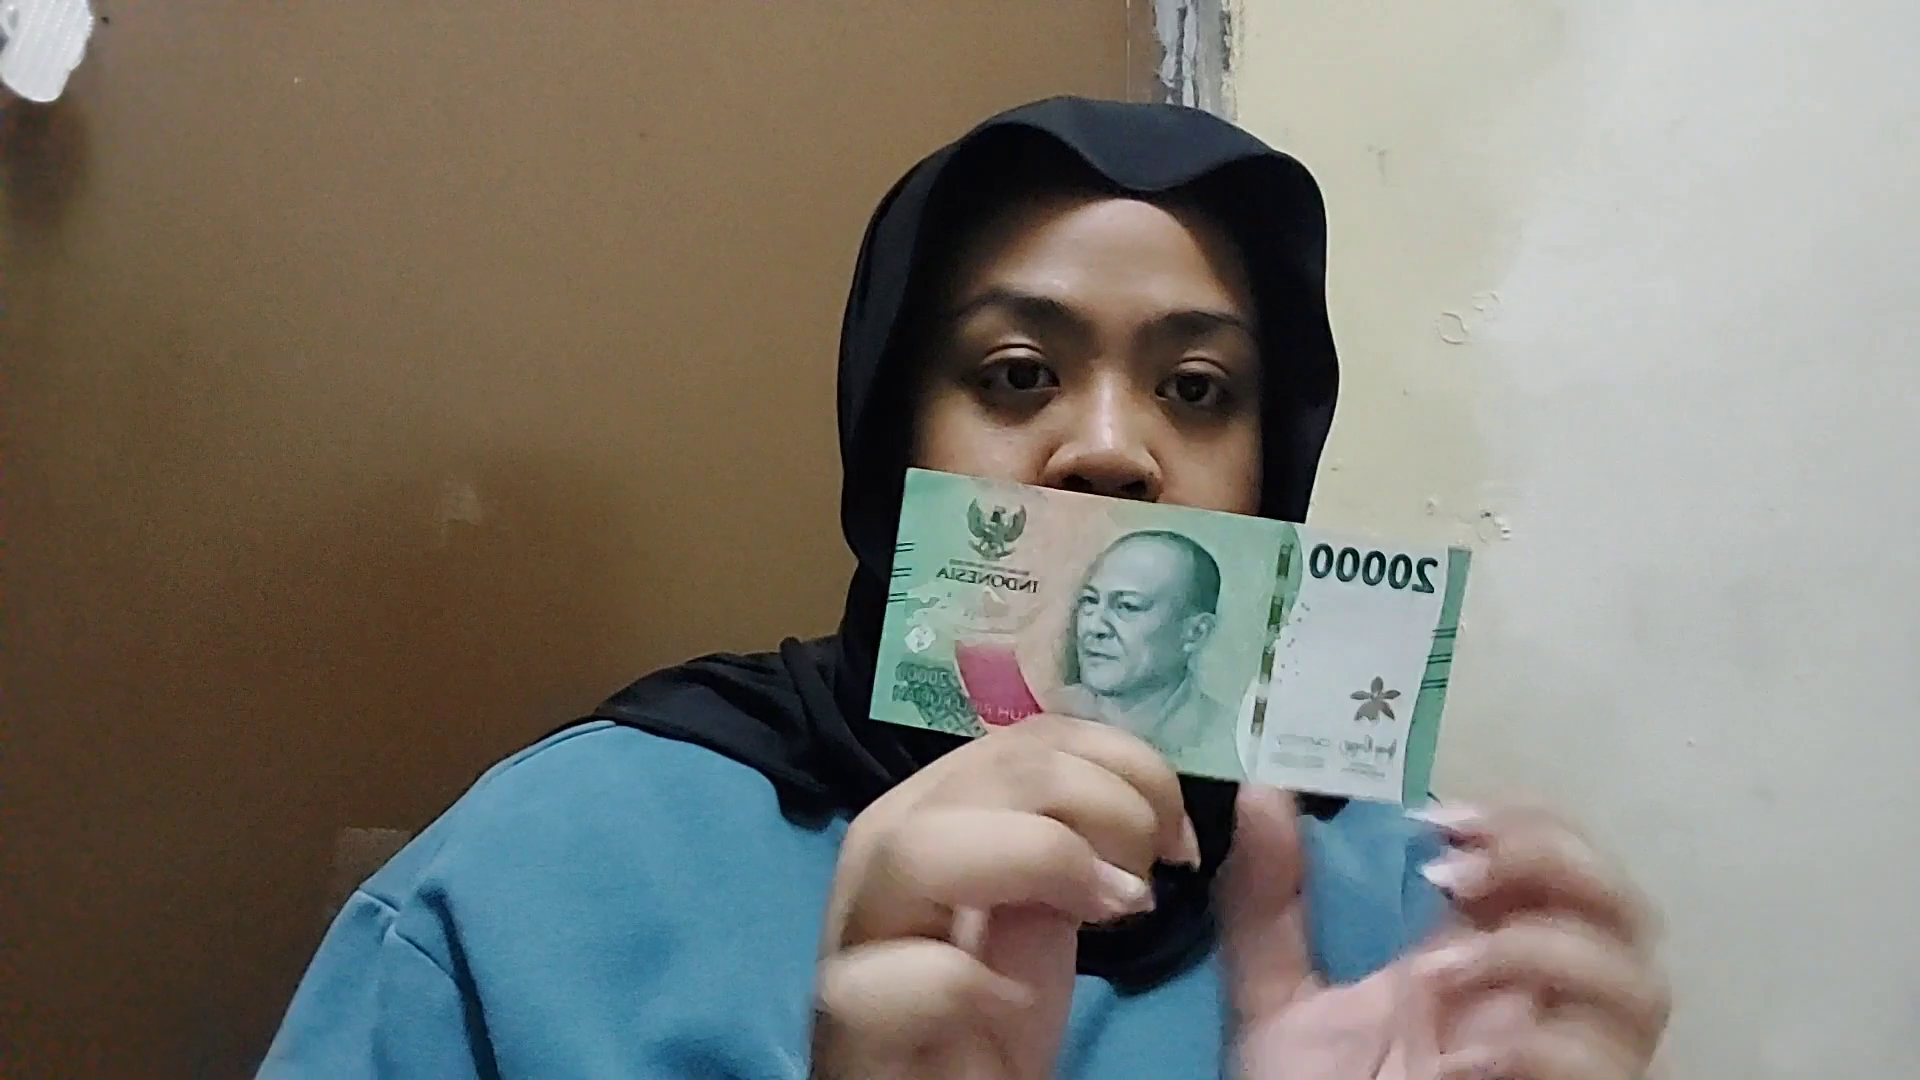20k: (887, 464, 1481, 812)
